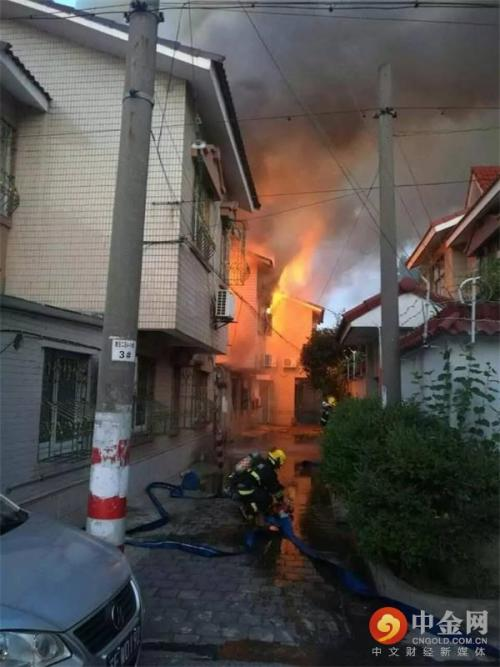fire: (269, 242, 311, 323)
